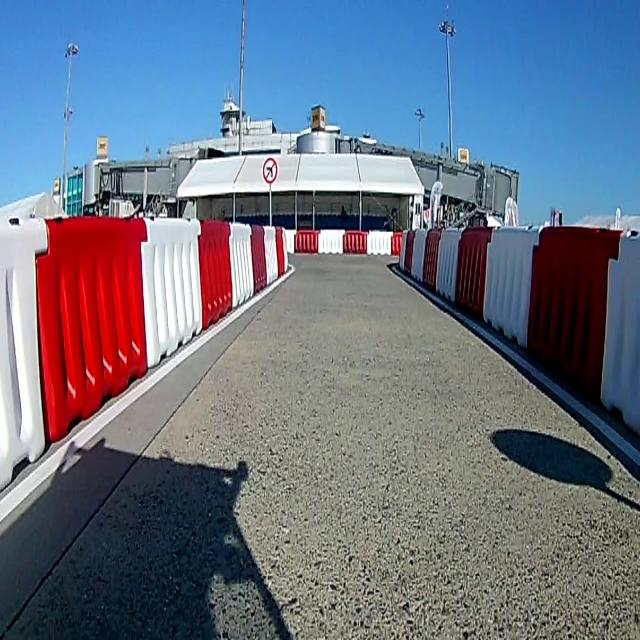soladonulmez: (262, 155, 280, 186)
